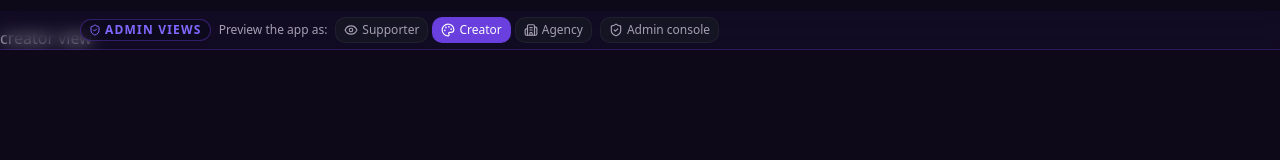
it: AdminViewSwitcher › clicking Supporter navigates to /app and renders the supporter page
The image size is (1280, 160).
What coordinates should you click on to do the following:
click the link with aria-label "Supporter view"
I would click on:
 (382, 30)
Its box is [335,17,428,43].
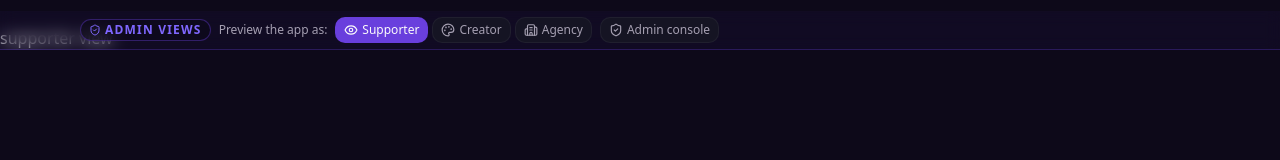
Result: the text "supporter view" is shown at [0,27,113,49]
